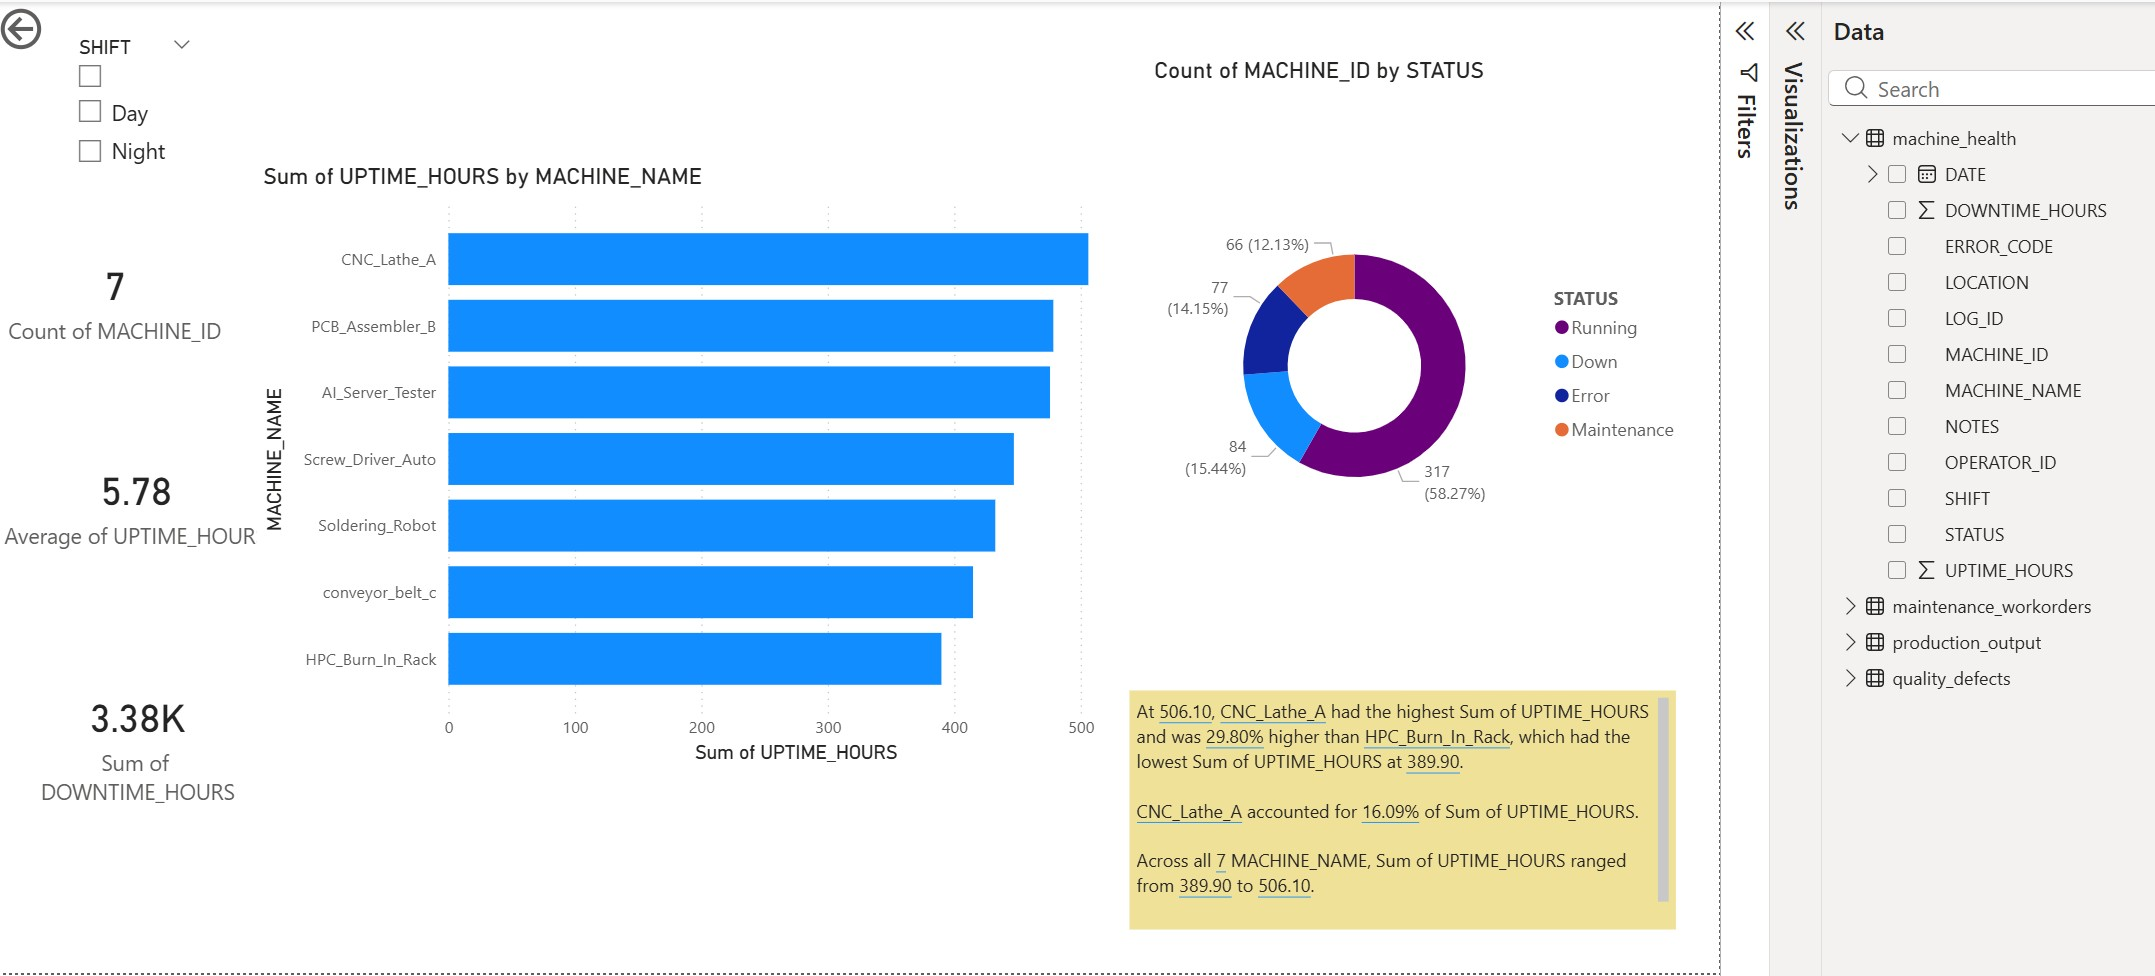

What the dashboard file says about the page in this screenshot:
{"tool":"powerbi","page":{"name":"Machine Health","canvas":[1280,720],"ordinal":0},"visuals":[{"type":"actionButton","box":[0,0,100,40],"z":0},{"type":"card","fields":{"Values":["Count(machine_health.MACHINE_ID)"]},"box":[0,156.8,178.4,124.5],"z":1000},{"type":"card","fields":{"Values":["Avg(machine_health.UPTIME_HOURS)"]},"box":[0,304,209.5,135.3],"z":2000},{"type":"card","fields":{"Values":["Sum(machine_health.DOWNTIME_HOURS)"]},"box":[18,460.9,177.2,158],"z":3000},{"type":"clusteredBarChart","fields":{"Category":["machine_health.MACHINE_NAME"],"Y":["Sum(machine_health.UPTIME_HOURS)"]},"box":[195,118.5,672.9,449.9],"z":4000},{"type":"donutChart","fields":{"Category":["machine_health.STATUS"],"Y":["CountNonNull(machine_health.MACHINE_ID)"]},"box":[855.2,39.5,405.3,439.7],"z":5000},{"type":"slicer","fields":{"Values":["machine_health.SHIFT"]},"box":[53.5,6.4,108.3,150.4],"z":6000},{"type":"textbox","box":[842.4,511.1,405.3,177.2],"z":6001}]}

Visuals, with their boxes on the page's 1280x720 design canvas (x1, y1, x2, y2). These are canvas units, not pixel positions in the 2155x976 screenshot, which may show the page scaled, cropped or inside an application window:
actionButton: x1=0 y1=0 x2=100 y2=40
card - Count(machine_health.MACHINE_ID): x1=0 y1=157 x2=178 y2=281
card - Avg(machine_health.UPTIME_HOURS): x1=0 y1=304 x2=210 y2=439
card - Sum(machine_health.DOWNTIME_HOURS): x1=18 y1=461 x2=195 y2=619
clusteredBarChart - machine_health.MACHINE_NAME x Sum(machine_health.UPTIME_HOURS): x1=195 y1=118 x2=868 y2=568
donutChart - machine_health.STATUS x CountNonNull(machine_health.MACHINE_ID): x1=855 y1=40 x2=1260 y2=479
slicer - machine_health.SHIFT: x1=54 y1=6 x2=162 y2=157
textbox: x1=842 y1=511 x2=1248 y2=688
